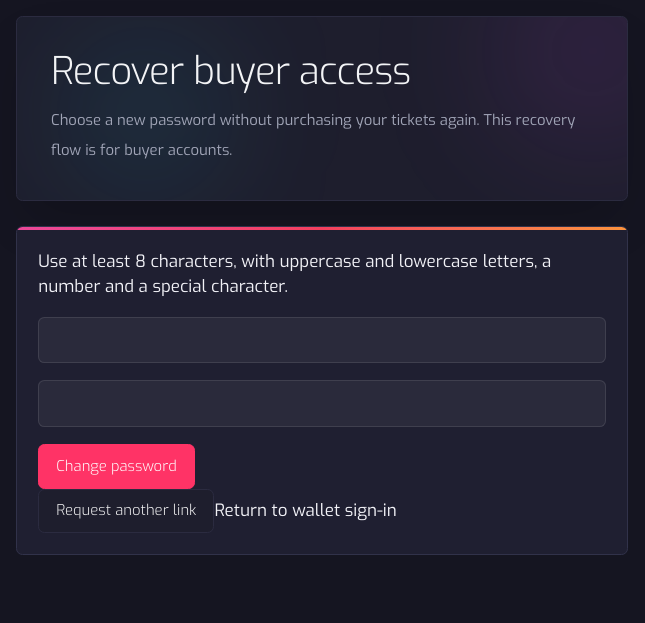
it: Buyer password recovery › expired link can switch to a fresh email request without retaining old credentials
Type "Synthetic-New1!" into the password field named "New password" at (322, 340), box [38,316,606,363]
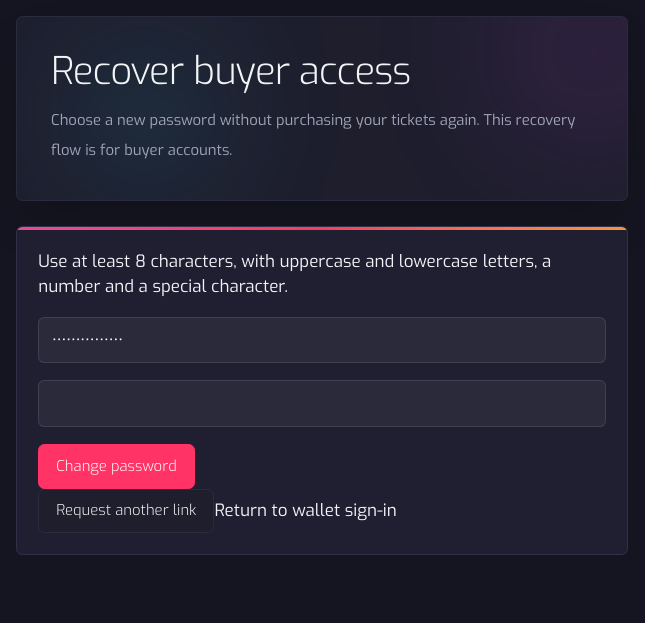
Type "Synthetic-New1!" into the password field named "Confirm new password" at (322, 404), box [38,380,606,427]
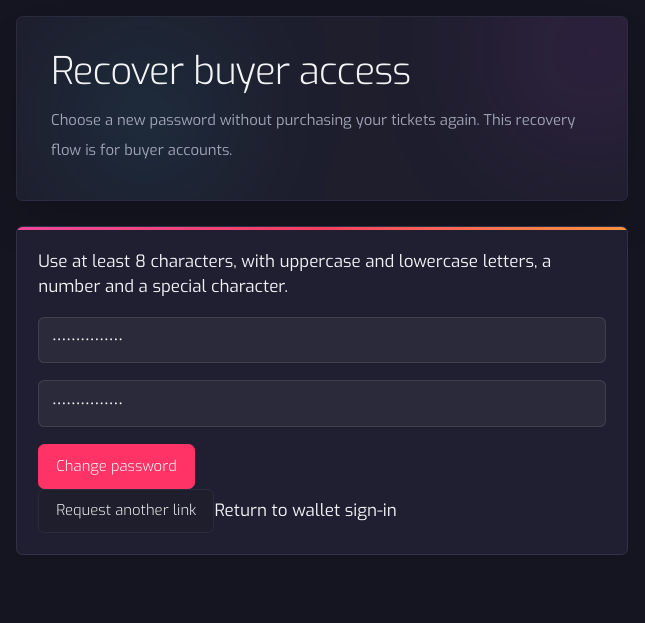
Click the button "Change password" at (117, 466), box [38,444,195,488]
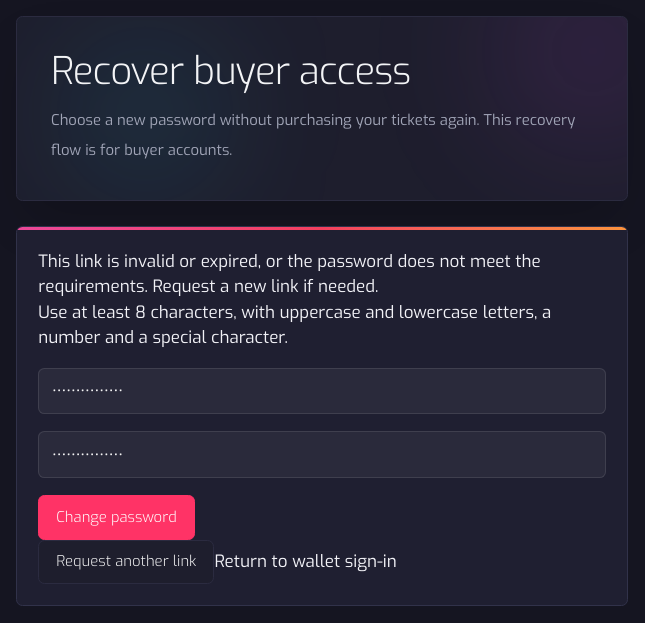
Expected: the message is shown, [38,248,606,300]
Click the button "Request another link" at (126, 562), box [38,540,214,584]
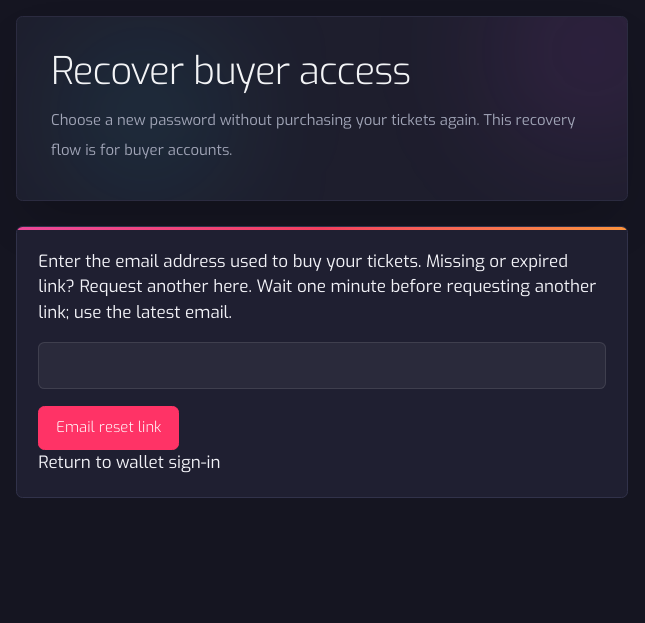
Expected: the field named "Buyer email" is shown, [38,342,606,389]
